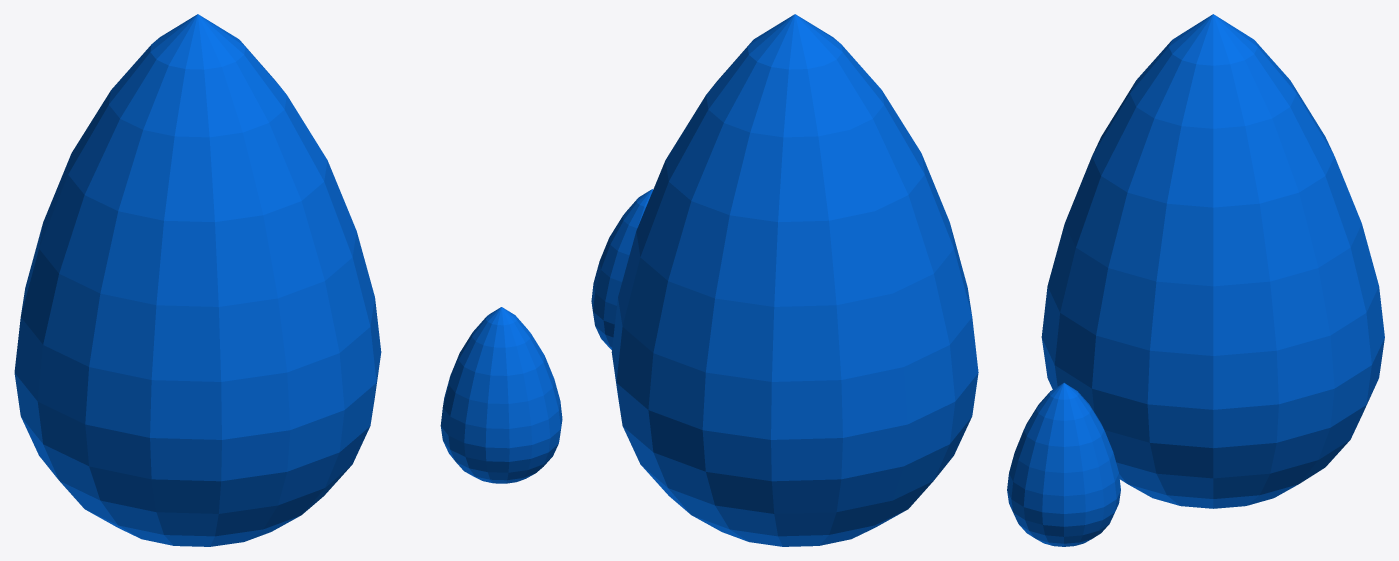
File: WaterSprite_2.glb
The picture shows the model from 3 angles, left to right: view 1: azimuth 30°, elevation 25°; view 2: azimuth 150°, elevation 25°; view 3: azimuth 270°, elevation 25°; orthographic projection. The views are drawn at different scales.
Parts seen in each view (by area): view 1: 球体, 球体.002, 球体.001; view 2: 球体, 球体.001, 球体.002; view 3: 球体, 球体.001, 球体.002.
Boxes of the visible parts, x1,y1,x2,y2 form: 球体: (14, 14, 381, 546); 球体.002: (440, 307, 562, 483); 球体.001: (441, 307, 562, 483); 球体: (611, 14, 978, 546); 球体.001: (591, 189, 652, 349); 球体.002: (591, 189, 652, 349); 球体: (1041, 14, 1384, 508); 球体.001: (1013, 383, 1120, 546); 球体.002: (1007, 384, 1120, 546).
Size of the model in its own units: 2.73 by 3.08 by 2.2.
